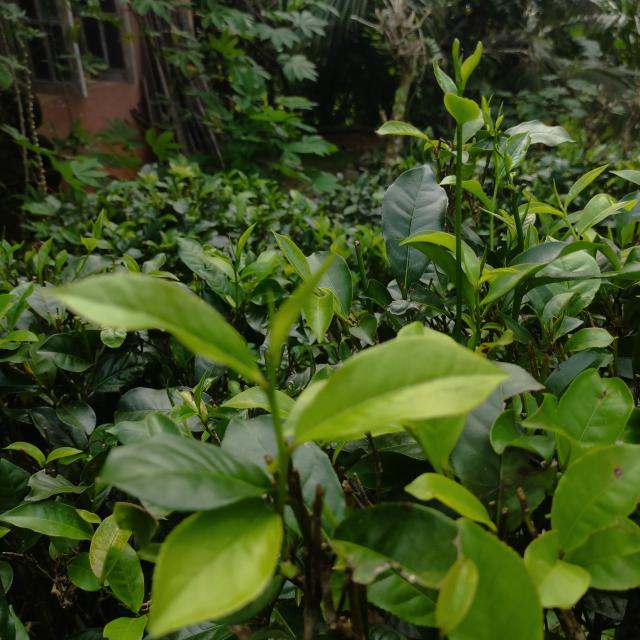unopened_leaf: (259, 235, 357, 372), (548, 174, 568, 216), (493, 92, 511, 120), (451, 50, 472, 73), (225, 235, 243, 258), (83, 214, 98, 236)
